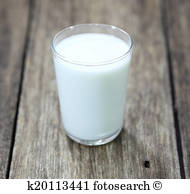glass of milk: (57, 34, 125, 141)
